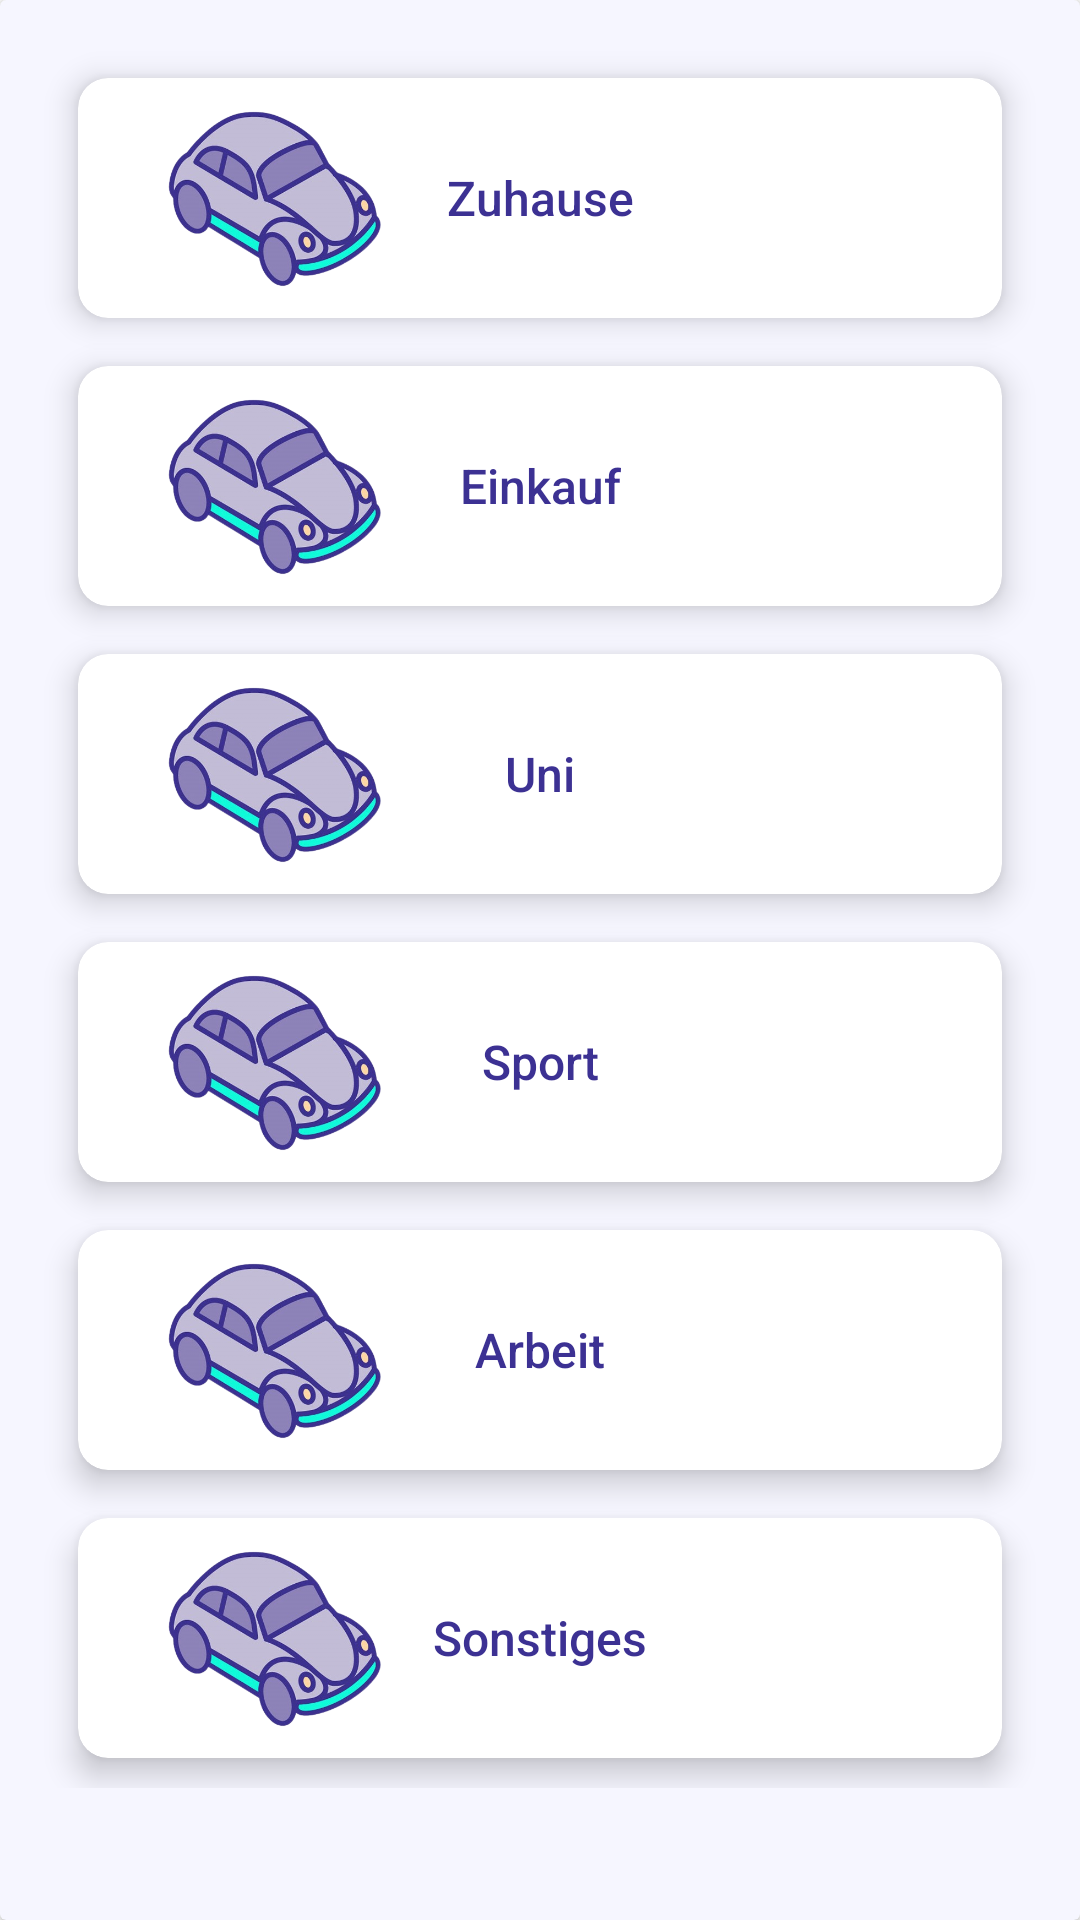

Icon click points for this 1080px×1920px phone screenshot, format (x,y):
auto: (275,199), (275,487), (275,775), (275,1063), (275,1351), (275,1639)
